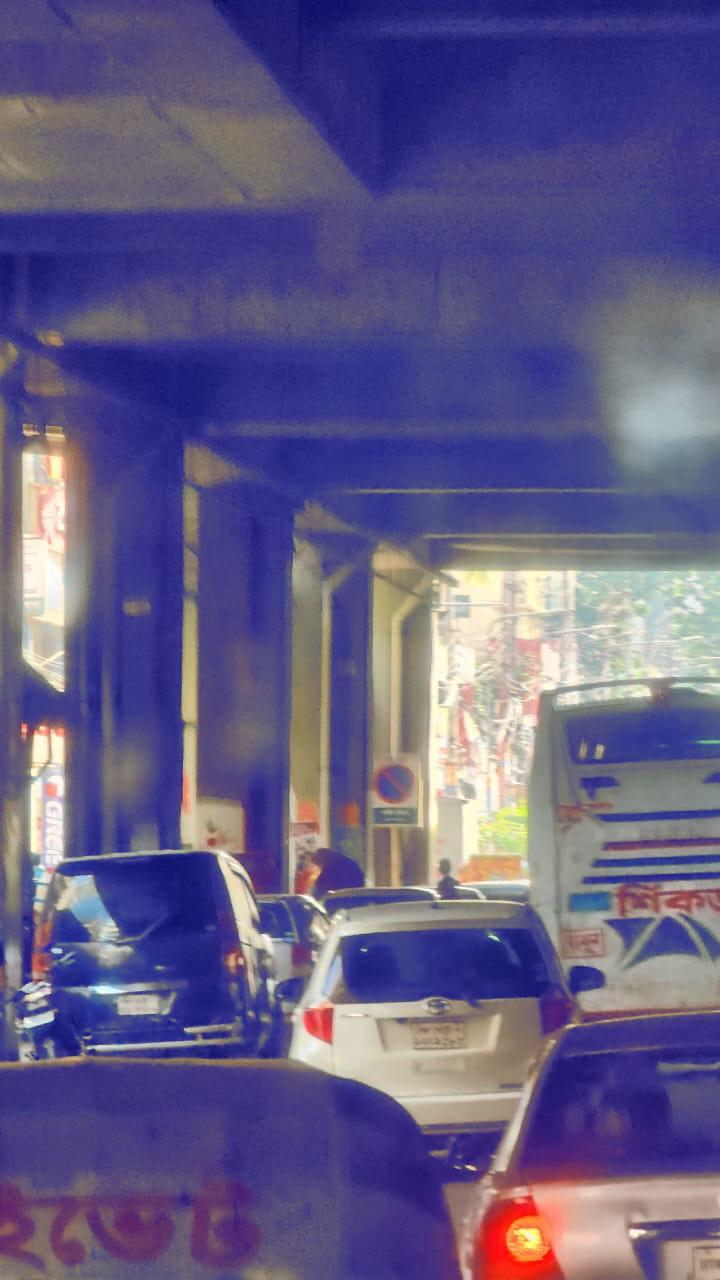No Parking: (369, 752, 422, 827)
